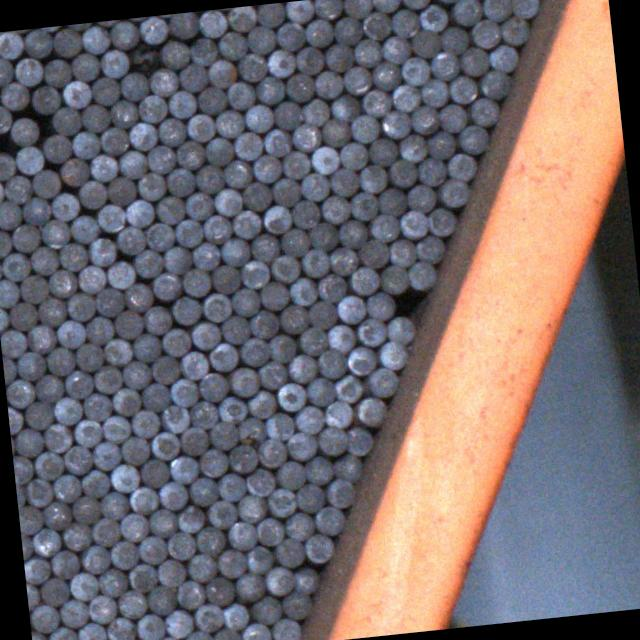tool: (478, 67, 512, 100), (144, 582, 177, 616), (456, 122, 488, 155), (408, 26, 441, 58), (366, 366, 398, 398), (456, 44, 488, 76), (414, 155, 446, 187), (225, 519, 257, 551), (148, 506, 178, 540), (498, 13, 530, 44), (468, 96, 500, 127), (302, 532, 334, 563), (200, 291, 232, 322), (247, 308, 279, 339), (324, 322, 355, 354), (345, 344, 376, 376), (316, 346, 347, 378), (206, 341, 238, 372), (90, 439, 122, 470), (30, 526, 61, 558), (50, 26, 82, 57), (60, 78, 92, 109), (271, 99, 303, 130), (376, 263, 408, 294), (370, 59, 400, 92), (41, 132, 72, 163), (356, 163, 387, 194), (335, 293, 366, 324), (149, 353, 180, 384), (13, 427, 44, 458), (159, 39, 190, 70), (261, 126, 292, 157), (230, 208, 261, 239), (355, 396, 387, 426), (424, 130, 456, 160), (368, 212, 400, 242), (356, 238, 388, 268), (326, 246, 358, 276), (270, 252, 300, 284), (257, 280, 289, 310), (278, 302, 308, 334), (238, 336, 270, 366), (287, 352, 317, 384), (316, 424, 346, 456), (186, 552, 218, 582), (51, 395, 83, 425), (32, 450, 64, 480), (274, 20, 304, 52), (12, 56, 44, 86), (294, 44, 324, 76), (251, 152, 281, 184), (104, 258, 136, 288), (64, 290, 94, 322), (24, 324, 56, 354), (100, 336, 132, 366), (470, 16, 500, 48), (487, 43, 518, 73), (425, 206, 455, 237), (406, 259, 436, 290), (378, 339, 408, 370), (324, 477, 354, 508), (314, 504, 344, 535), (389, 8, 419, 39), (399, 56, 430, 86), (408, 104, 439, 134), (366, 136, 397, 166), (396, 132, 426, 163), (328, 166, 359, 196), (318, 194, 349, 224), (261, 204, 292, 234), (348, 264, 379, 294), (364, 289, 394, 320), (239, 258, 269, 289), (307, 299, 337, 330), (230, 286, 260, 317), (276, 381, 306, 412), (178, 349, 208, 380), (198, 371, 228, 402), (168, 377, 198, 408), (160, 402, 190, 433), (264, 410, 294, 441), (294, 404, 325, 434), (108, 462, 139, 492), (108, 538, 138, 569), (116, 588, 146, 619), (174, 579, 204, 610), (264, 564, 294, 595), (162, 608, 193, 638), (250, 595, 281, 625), (34, 372, 64, 403), (121, 358, 151, 389), (72, 417, 103, 447), (24, 477, 54, 508), (22, 28, 53, 58), (245, 24, 276, 54), (332, 15, 362, 46), (89, 76, 120, 106), (118, 70, 148, 101), (236, 52, 267, 82), (254, 74, 284, 105), (284, 71, 314, 102), (79, 102, 110, 132), (1, 174, 32, 204), (203, 135, 233, 166), (232, 130, 263, 160), (221, 158, 252, 188), (270, 176, 300, 207), (49, 190, 80, 220), (201, 214, 232, 244), (132, 247, 163, 277), (94, 285, 124, 316), (130, 331, 160, 362), (36, 296, 66, 327), (280, 590, 312, 619), (446, 152, 476, 182), (384, 315, 414, 345), (14, 144, 44, 174), (361, 11, 391, 41), (351, 37, 381, 67), (380, 33, 410, 63), (438, 24, 468, 54), (428, 50, 458, 80), (447, 74, 477, 104), (380, 108, 410, 138), (437, 102, 467, 132), (348, 114, 378, 144), (298, 96, 328, 126), (290, 122, 320, 152), (320, 118, 350, 148), (338, 140, 368, 170), (309, 144, 339, 174), (299, 171, 329, 201), (289, 198, 319, 228), (348, 190, 378, 220), (376, 186, 406, 216), (404, 182, 434, 212), (336, 219, 366, 249), (398, 209, 428, 239), (316, 272, 346, 302), (210, 263, 240, 293), (220, 314, 250, 344), (266, 333, 296, 363), (296, 325, 326, 355), (356, 316, 386, 346), (229, 367, 259, 397), (256, 360, 286, 390), (304, 376, 334, 406), (332, 374, 362, 404), (217, 394, 247, 424), (246, 388, 276, 418), (208, 420, 238, 450), (286, 430, 316, 460), (168, 454, 198, 484), (148, 430, 178, 460), (198, 447, 228, 477), (128, 484, 158, 514), (188, 475, 218, 505), (244, 466, 274, 496), (302, 455, 332, 485), (60, 521, 90, 551), (90, 516, 120, 546), (206, 498, 236, 528), (284, 510, 314, 540), (48, 548, 78, 578), (136, 534, 166, 564), (194, 526, 224, 556), (40, 576, 70, 606), (68, 570, 98, 600), (98, 568, 128, 598), (128, 562, 158, 592), (156, 558, 186, 588), (216, 548, 246, 578), (58, 598, 88, 628), (192, 602, 222, 632), (5, 378, 35, 408), (63, 368, 93, 398), (93, 364, 123, 394), (140, 381, 170, 411), (110, 386, 140, 416), (42, 422, 72, 452), (79, 468, 109, 498), (42, 500, 72, 530), (70, 494, 100, 524), (80, 24, 110, 54), (108, 19, 138, 49), (188, 36, 218, 66), (197, 8, 227, 38), (98, 48, 128, 78), (70, 51, 100, 81), (42, 57, 72, 87), (178, 62, 208, 92), (206, 58, 236, 88), (266, 46, 296, 76), (323, 42, 353, 72), (136, 92, 166, 122), (166, 88, 196, 118), (196, 84, 226, 114), (225, 79, 255, 109), (30, 168, 60, 198), (59, 157, 89, 187), (145, 144, 175, 174), (280, 149, 310, 179), (194, 164, 224, 194), (124, 197, 154, 227), (184, 190, 214, 220), (212, 186, 242, 216), (68, 214, 98, 244), (40, 219, 70, 249), (144, 221, 174, 251), (76, 264, 106, 294), (46, 268, 76, 298), (18, 274, 48, 304), (190, 240, 220, 270), (161, 244, 191, 274), (180, 266, 210, 296), (122, 282, 152, 312), (160, 327, 190, 357), (6, 300, 36, 330), (56, 318, 86, 348), (44, 346, 74, 376), (413, 234, 444, 263), (257, 437, 286, 468), (119, 511, 148, 542), (62, 443, 91, 474), (120, 434, 149, 465), (150, 271, 181, 300), (84, 314, 113, 345), (330, 454, 362, 482), (418, 77, 448, 106), (341, 65, 371, 94), (361, 88, 390, 118), (390, 82, 419, 112), (313, 70, 343, 99), (388, 158, 417, 188), (308, 221, 337, 251), (288, 276, 317, 306), (190, 320, 220, 349), (323, 398, 352, 428), (236, 416, 265, 446), (98, 490, 128, 519), (157, 480, 186, 510), (275, 459, 305, 488), (80, 544, 110, 573), (274, 538, 303, 568), (234, 571, 264, 600), (23, 400, 52, 430), (100, 413, 130, 442), (131, 408, 160, 438), (51, 472, 80, 502), (138, 15, 168, 44), (148, 66, 178, 95), (30, 85, 60, 114), (51, 106, 80, 136), (109, 98, 138, 128), (127, 120, 156, 150), (157, 116, 186, 146), (88, 153, 118, 182), (214, 109, 244, 138), (106, 176, 136, 205), (95, 202, 124, 232), (173, 218, 202, 248), (1, 251, 30, 281), (86, 236, 115, 266), (15, 350, 44, 380), (188, 399, 216, 430), (180, 425, 208, 456), (74, 341, 102, 372), (387, 238, 416, 267), (217, 472, 246, 501), (255, 517, 284, 546), (82, 392, 111, 421), (154, 194, 183, 223), (346, 426, 374, 456), (8, 118, 38, 146), (280, 228, 308, 258), (301, 247, 329, 277), (140, 456, 168, 486), (268, 486, 296, 516), (296, 482, 324, 512), (166, 532, 196, 560), (28, 604, 58, 632), (88, 594, 116, 624), (204, 578, 234, 606), (218, 30, 246, 60), (304, 18, 332, 48), (0, 80, 28, 110), (244, 103, 272, 133), (136, 170, 164, 200), (78, 178, 106, 208), (242, 181, 270, 211), (10, 224, 40, 252), (28, 246, 58, 274), (116, 224, 144, 254), (220, 238, 250, 266), (250, 232, 278, 262), (170, 296, 200, 324), (142, 304, 170, 334), (112, 310, 142, 338), (99, 126, 128, 154), (117, 150, 146, 178), (176, 140, 204, 169), (166, 167, 194, 196), (227, 444, 257, 471), (237, 493, 264, 523), (168, 11, 198, 38), (226, 5, 256, 32), (450, 0, 481, 26), (440, 179, 468, 207), (418, 3, 446, 31), (245, 546, 273, 574), (136, 612, 164, 640), (71, 130, 99, 158), (21, 196, 49, 224), (58, 242, 86, 270), (186, 113, 213, 142), (0, 328, 27, 357), (330, 96, 360, 122), (176, 504, 203, 532), (271, 615, 301, 640), (105, 614, 133, 640), (221, 602, 247, 630), (256, 2, 284, 28), (18, 504, 42, 534), (0, 29, 23, 59), (283, 0, 312, 23), (12, 453, 34, 483), (292, 568, 318, 593), (481, 0, 511, 21), (24, 558, 48, 584), (240, 620, 271, 640), (75, 620, 105, 640), (508, 0, 539, 19), (313, 0, 342, 20), (342, 0, 371, 20), (0, 277, 19, 306), (0, 200, 18, 228), (46, 625, 77, 640), (0, 151, 15, 180), (26, 581, 40, 611), (211, 626, 240, 640), (7, 406, 22, 432), (2, 354, 15, 384), (370, 0, 399, 13), (0, 56, 12, 87), (182, 629, 212, 640), (0, 103, 11, 133), (400, 0, 430, 10), (0, 229, 10, 257), (155, 634, 183, 640), (31, 631, 46, 640)
tool_b: (123, 40, 164, 74)
void: (391, 288, 426, 317)
